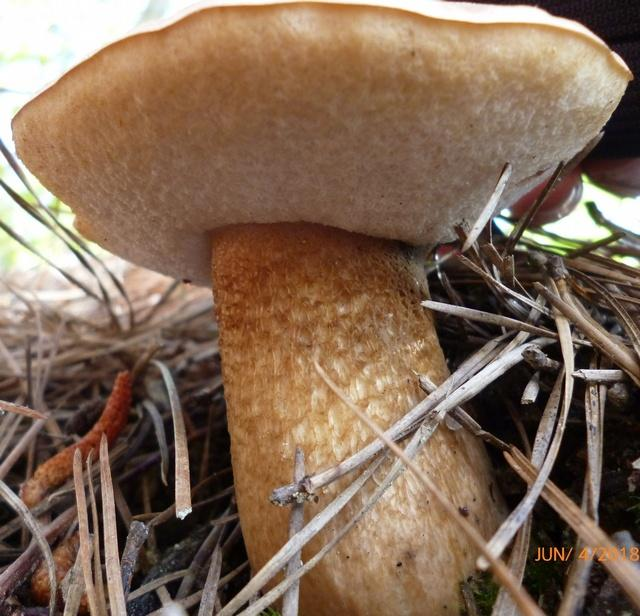Non-edible Mushroom: (9, 0, 633, 614)
